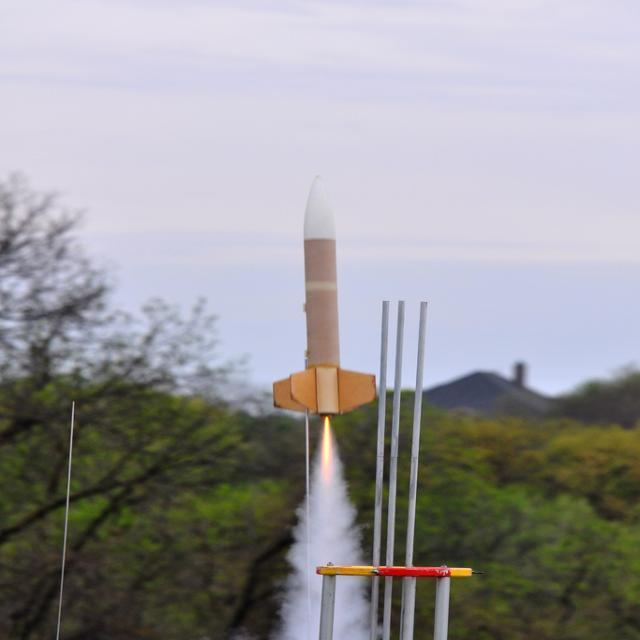Missile: (269, 170, 378, 420), (314, 558, 478, 584)
